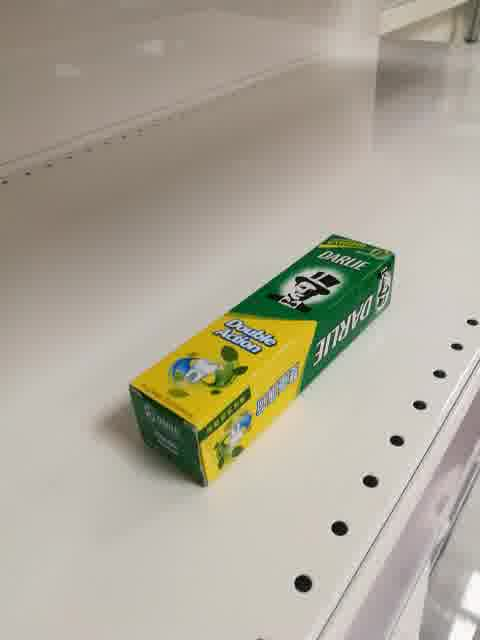toothpaste: (130, 233, 396, 490)
